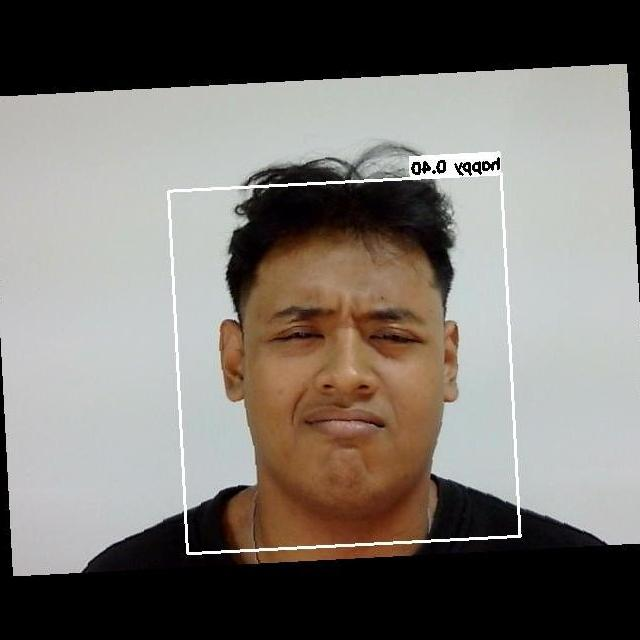Disgust: (242, 278, 454, 480)
